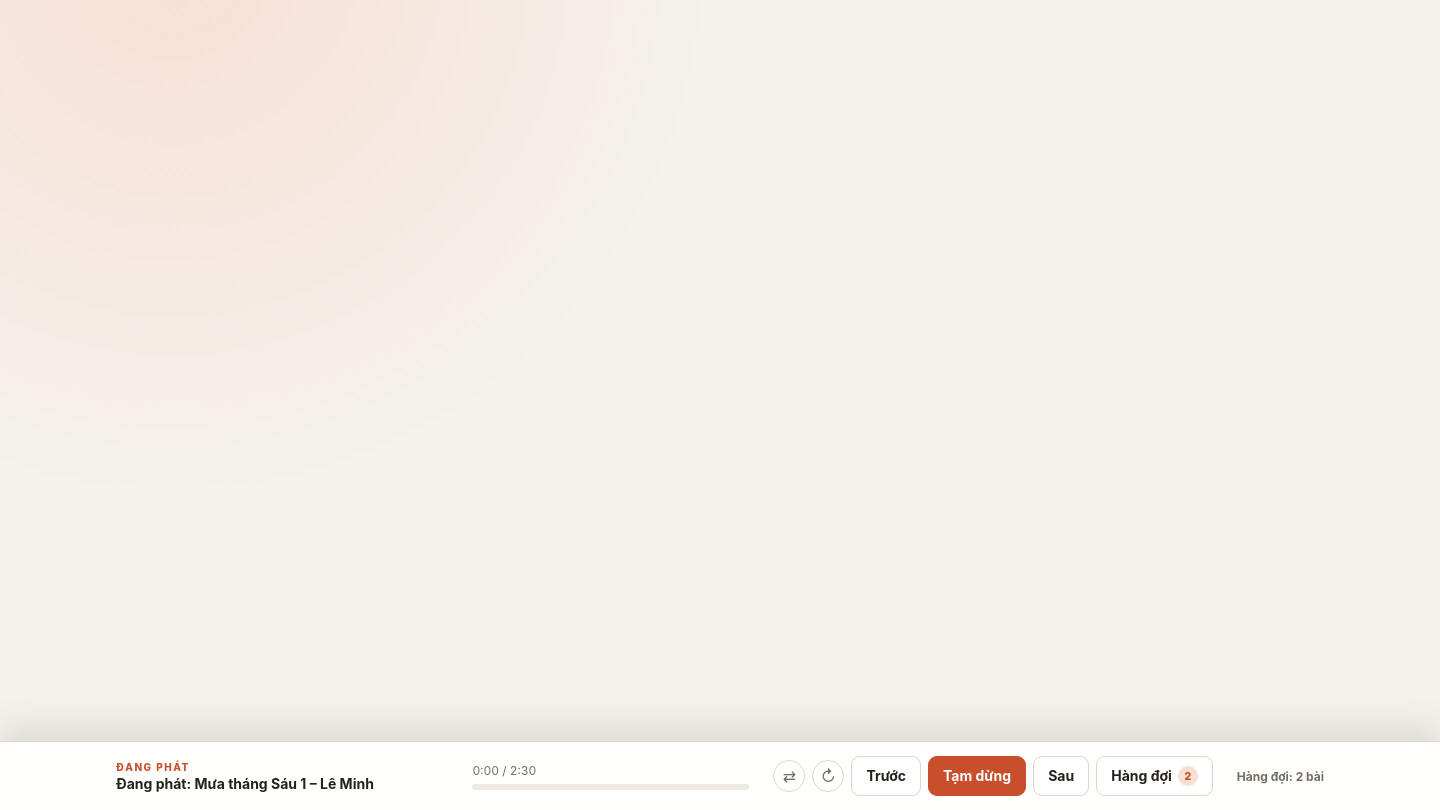
Test: PlayerBar › chuyển sang bài sau và đưa thời gian về 0:00
Click the button "Sau".
click(1061, 776)  # box left=1033, top=756, right=1089, bottom=796
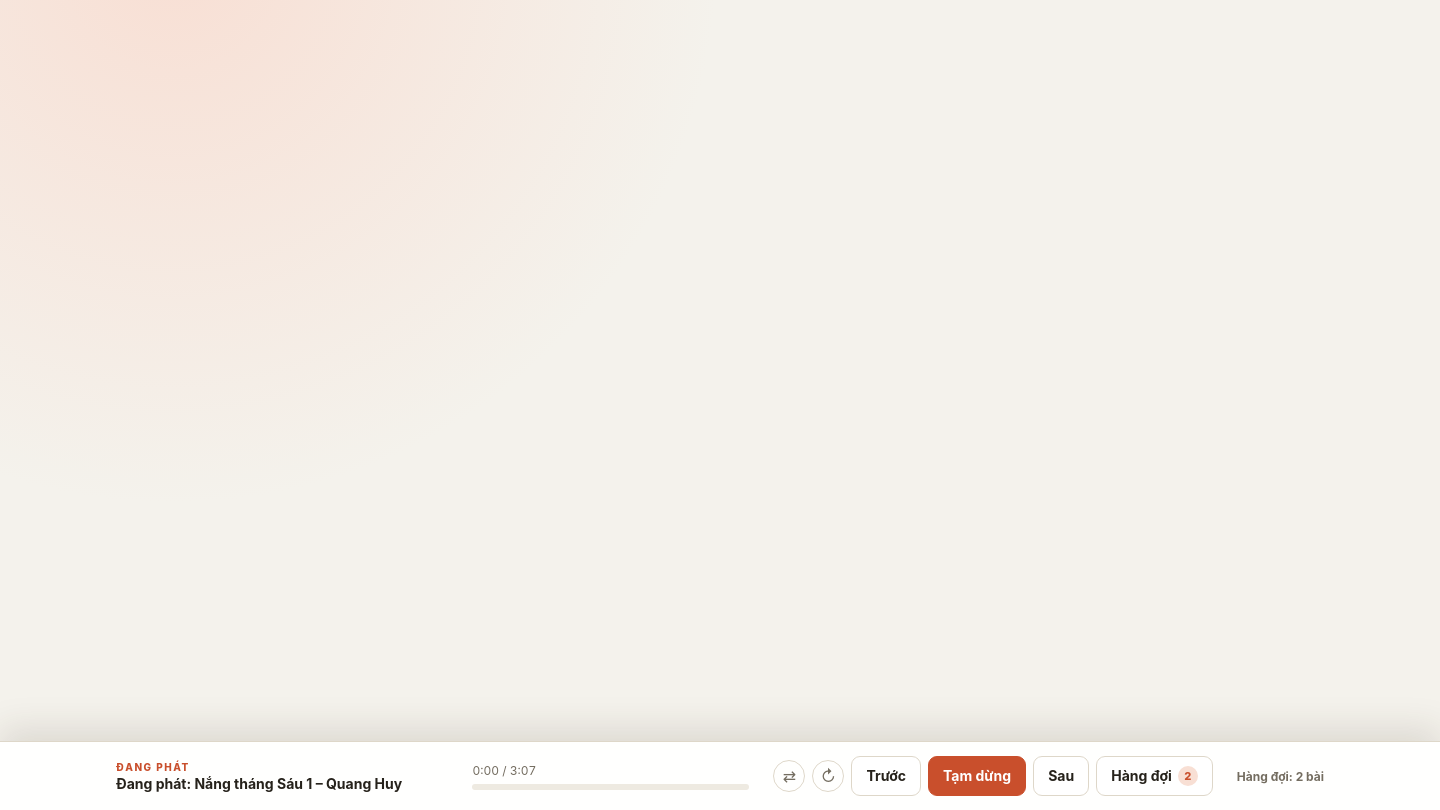
Expected: the text "Đang phát: Nắng tháng Sáu 1 – Quang Huy" is shown, left=116, top=774, right=448, bottom=792
Expected: the text "0:00 / 3:07" is shown, left=472, top=762, right=536, bottom=778
